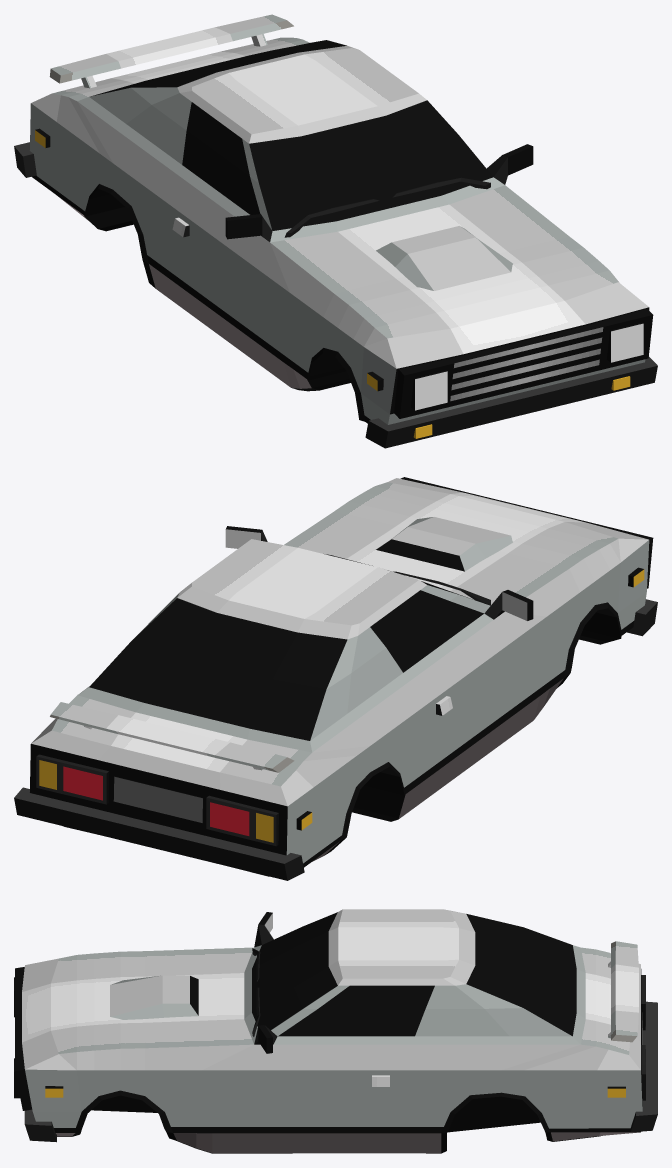
File: SportCar.007.fbx
3 renders of one model, top to bottom at view 1: azimuth 30°, elevation 25°; view 2: azimuth 150°, elevation 25°; view 3: azimuth 270°, elevation 25°, orthographic. The views are drawn at different scales.
Parts seen in each view (by area): view 1: SportCar.007; view 2: SportCar.007; view 3: SportCar.007.
Part boxes in pixels (box(x1,y1,x2,y2)): SportCar.007: box(14, 14, 657, 448); SportCar.007: box(14, 477, 657, 880); SportCar.007: box(14, 909, 657, 1153).
Size of the model in its own units: 1.75 by 1.05 by 3.77.
